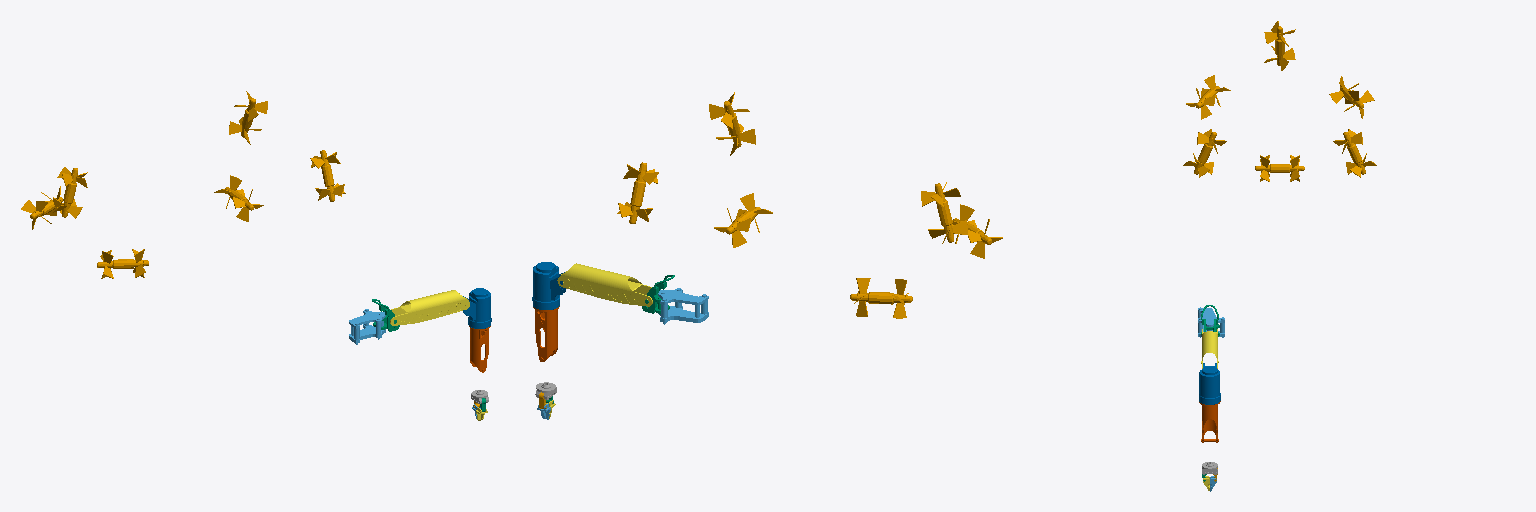
The robot description file, URDF, robot "rexrov2_oberon7":
<?xml version='1.0' encoding='utf-8'?>
<robot name="rexrov2_oberon7">
  <link name="base_link">
    <inertial>
      <mass value="1862.87" />
      <origin xyz="0 0 0" rpy="0 0 0" />
      <inertia ixx="525.39" ixy="1.44" ixz="33.41" iyy="794.20" iyz="2.6" izz="691.23" />
    </inertial>
    <collision>
      <origin xyz="0 0 -0.75" rpy="0 0 0" />
      <geometry>
        <box size="2.56 1.50 0.10" />
      </geometry>
    </collision>
    <collision>
      <origin xyz="0 0 0.60" rpy="0 0 0" />
      <geometry>
        <box size="2.56 1.50 0.40" />
      </geometry>
    </collision>
    <collision>
      <origin xyz="-0.20 0.70 -0.15" rpy="0 0 0" />
      <geometry>
        <box size="2.20 0.10 1.10" />
      </geometry>
    </collision>
    <collision>
      <origin xyz="-0.20 -0.70 -0.15" rpy="0 0 0" />
      <geometry>
        <box size="2.20 0.10 1.10" />
      </geometry>
    </collision>
    <visual name="RexROV2_no_props_00">
      <origin xyz="0 0 0" rpy="0 0 0" />
      <geometry>
        <mesh filename="meshes/rexrov2/RexROV2_no_props_00.obj" scale="1 1 1" />
      </geometry>
    </visual>
    <visual name="RexROV2_no_props_01">
      <origin xyz="0 0 0" rpy="0 0 0" />
      <geometry>
        <mesh filename="meshes/rexrov2/RexROV2_no_props_01.obj" scale="1 1 1" />
      </geometry>
    </visual>
    <visual name="RexROV2_no_props_02">
      <origin xyz="0 0 0" rpy="0 0 0" />
      <geometry>
        <mesh filename="meshes/rexrov2/RexROV2_no_props_02.obj" scale="1 1 1" />
      </geometry>
    </visual>
    <visual name="RexROV2_no_props_03">
      <origin xyz="0 0 0" rpy="0 0 0" />
      <geometry>
        <mesh filename="meshes/rexrov2/RexROV2_no_props_03.obj" scale="1 1 1" />
      </geometry>
    </visual>
    <visual name="RexROV2_no_props_04">
      <origin xyz="0 0 0" rpy="0 0 0" />
      <geometry>
        <mesh filename="meshes/rexrov2/RexROV2_no_props_04.obj" scale="1 1 1" />
      </geometry>
    </visual>
    <visual name="thruster_0">
      <geometry>
        <mesh filename="meshes/rexrov2/Propeller.obj" />
      </geometry>
      <origin xyz="0.4878 0 0.2373" rpy="0.0 0.0 1.5707963267948966" />
    </visual>
    <visual name="thruster_1">
      <geometry>
        <mesh filename="meshes/rexrov2/Propeller.obj" />
      </geometry>
      <origin xyz="-0.8217 0 0.589" rpy="0.0 -1.3089969389957472 0.0" />
    </visual>
    <visual name="thruster_2">
      <geometry>
        <mesh filename="meshes/rexrov2/Propeller.obj" />
      </geometry>
      <origin xyz="0.8654 -0.5322 0.5332" rpy="0.0 -1.1780972450961724 1.5707963267948966" />
    </visual>
    <visual name="thruster_3">
      <geometry>
        <mesh filename="meshes/rexrov2/Propeller.obj" />
      </geometry>
      <origin xyz="0.8654 0.5322 0.5332" rpy="0.0 1.1780972450961724 1.5707963267948966" />
    </visual>
    <visual name="thruster_4">
      <geometry>
        <mesh filename="meshes/rexrov2/Propeller.obj" />
      </geometry>
      <origin xyz="-0.7076 0.5129 0.2404" rpy="0.0 0.0 0.4363323129985824" />
    </visual>
    <visual name="thruster_5">
      <geometry>
        <mesh filename="meshes/rexrov2/Propeller.obj" />
      </geometry>
      <origin xyz="-0.7076 -0.5129 0.2404" rpy="0.0 0.0 -0.4363323129985824" />
    </visual>
  </link>
  <link name="oberon_base">
    <inertial>
      <origin rpy="0 0 0" xyz="-0.101581 -0.001371 -0.009781" />
      <mass value="9.674677170178402" />
      <inertia ixx="0.051173167814727395" ixy="0.0" ixz="0.0" iyy="0.083677172414382" iyz="0.0" izz="0.09580329781516367" />
    </inertial>
    <visual>
      <origin rpy="0 0 0" xyz="0 0 0" />
      <geometry>
        <mesh filename="meshes/oberon7/serial_arm/visual/Base.obj" />
      </geometry>
    </visual>
    <collision>
      <origin rpy="0 0 0" xyz="0 0 0" />
      <geometry>
        <mesh filename="meshes/oberon7/serial_arm/collision/Base.stl" />
      </geometry>
    </collision>
  </link>
  <link name="oberon_shoulder_link">
    <inertial>
      <origin rpy="0 0 0" xyz="0.039670 0.005441 0.017383" />
      <mass value="6.72225246900683" />
      <inertia ixx="0.04258397382943181" ixy="0.0" ixz="0.0" iyy="0.05132575485641739" iyz="0.0" izz="0.02957654137768093" />
    </inertial>
    <visual>
      <origin rpy="0 0 0" xyz="0 0 0" />
      <geometry>
        <mesh filename="meshes/oberon7/serial_arm/visual/ShoulderLink.obj" />
      </geometry>
    </visual>
    <collision>
      <origin rpy="0 0 0" xyz="0.039670 0.005441 0.017383" />
      <geometry>
        <cylinder length="0.239627" radius="0.068184" />
      </geometry>
    </collision>
  </link>
  <joint name="oberon_azimuth" type="revolute">
    <parent link="oberon_base" />
    <child link="oberon_shoulder_link" />
    <axis xyz="0 0 1" />
    <dynamics damping="100" friction="150" />
    <limit effort="200" lower="-1.0471975800000002" upper="1.0471975800000002" velocity="0.17" />
  </joint>
  <link name="oberon_upper_arm">
    <inertial>
      <origin rpy="0 0 0" xyz="0.312501 0.017478 -0.000002" />
      <mass value="12.444399907248723" />
      <inertia ixx="0.03782344832464449" ixy="0.0" ixz="0.0" iyy="0.41148818050402597" iyz="0.0" izz="0.41542085464478007" />
    </inertial>
    <visual>
      <origin rpy="0 0 0" xyz="0 0 0" />
      <geometry>
        <mesh filename="meshes/oberon7/serial_arm/visual/UpperArm.obj" />
      </geometry>
    </visual>
    <collision>
      <origin rpy="0 1.5707963267948966 0" xyz="0.312501 0.017478 -0.000002" />
      <geometry>
        <cylinder length="0.616809" radius="0.0709445" />
      </geometry>
    </collision>
  </link>
  <joint name="oberon_shoulder" type="revolute">
    <parent link="oberon_shoulder_link" />
    <child link="oberon_upper_arm" />
    <origin rpy="1.5707963267948966 0 0" xyz="0.06955 0.00015 0.01536" />
    <axis xyz="0 0 1" />
    <dynamics damping="50" friction="150" />
    <limit effort="5000" lower="-1.57079637" upper="1.57079637" velocity=".17" />
  </joint>
  <link name="oberon_elbow_link">
    <inertial>
      <origin rpy="0 0 0" xyz="0.125269 -0.074675 0.0" />
      <mass value="10.314508867497032" />
      <inertia ixx="0.0717197873733233" ixy="0.0" ixz="0.0" iyy="0.07240908344378823" iyz="0.0" izz="0.10276175033951813" />
    </inertial>
    <visual>
      <origin rpy="0 0 0" xyz="0 0 0" />
      <geometry>
        <mesh filename="meshes/oberon7/serial_arm/visual/ElbowLink.obj" />
      </geometry>
    </visual>
    <collision>
      <origin rpy="0 1.5707963267948966 1.5707963267948966" xyz="0.125269 -0.074675 0.0" />
      <geometry>
        <cylinder length="0.245312" radius="0.077562" />
      </geometry>
    </collision>
  </link>
  <joint name="oberon_elbow" type="revolute">
    <parent link="oberon_upper_arm" />
    <child link="oberon_elbow_link" />
    <origin rpy="0 0 0" xyz="0.55616 -0.01229 0" />
    <dynamics damping="50" friction="150" />
    <axis xyz="0 0 1" />
    <limit effort="300" lower="-1.57079637" upper="1.0471975800000002" velocity=".15" />
  </joint>
  <link name="oberon_forearm">
    <inertial>
      <origin rpy="0 0 0" xyz="0 0 0.15797880314911714" />
      <mass value="8.546261755853898" />
      <inertia ixx="0.09617944207733116" ixy="0.0" ixz="0.0" iyy="0.09619023030837781" iyz="0.0" izz="0.03268402566917647" />
    </inertial>
    <visual>
      <origin rpy="0 0 0" xyz="0 0 0" />
      <geometry>
        <mesh filename="meshes/oberon7/serial_arm/visual/Forearm.obj" />
      </geometry>
    </visual>
    <collision>
      <origin rpy="0 0 0" xyz="0 0 0.15797880314911714" />
      <geometry>
        <cylinder length="0.334827" radius="0.0757275" />
      </geometry>
    </collision>
  </link>
  <joint name="oberon_roll" type="revolute">
    <parent link="oberon_elbow_link" />
    <child link="oberon_forearm" />
    <origin rpy="1.5707963267948966 0 0" xyz="0.1349014 -0.1936267 0" />
    <axis xyz="0 0 1" />
    <dynamics damping="300" friction="1000" />
    <limit effort="1000" lower="-2.356194555" upper="2.356194555" velocity=".25" />
  </joint>
  <link name="oberon_wrist_link">
    <inertial>
      <origin rpy="0 0 0" xyz="0.104016 0.003308 -0.000027" />
      <mass value="3.9024235776962013" />
      <inertia ixx="0.010428220937889964" ixy="0.0" ixz="0.0" iyy="0.021153663661370576" iyz="0.0" izz="0.020526721978954304" />
    </inertial>
    <visual>
      <origin rpy="0 0 0" xyz="0 0 0" />
      <geometry>
        <mesh filename="meshes/oberon7/serial_arm/visual/Wrist.obj" />
      </geometry>
    </visual>
    <collision>
      <origin rpy="0 1.5707963267948966 0" xyz="0.104016 0.003308 -0.000027" />
      <geometry>
        <cylinder length="0.219204" radius="0.065187" />
      </geometry>
    </collision>
  </link>
  <joint name="oberon_pitch" type="revolute">
    <parent link="oberon_forearm" />
    <child link="oberon_wrist_link" />
    <origin rpy="-1.5707963267948966 -1.5707963267948966 0" xyz="0 0 0.31595760629823427" />
    <axis xyz="0 0 1" />
    <dynamics damping="10" friction="10" />
    <limit effort="50" lower="-1.57079637" upper="1.57079637" velocity=".3" />
  </joint>
  <link name="oberon_end_effector">
    <inertial>
      <origin rpy="0 0 0" xyz="0.024426 -0.000000 -0.000014" />
      <mass value="3.4611458108218063" />
      <inertia ixx="0.007745217406579397" ixy="0.0" ixz="0.0" iyy="0.005361426484543977" iyz="0.0" izz="0.005570556852600513" />
    </inertial>
    <visual>
      <origin rpy="0 0 0" xyz="0 0 0" />
      <geometry>
        <mesh filename="meshes/oberon7/parallel_gripper/visual/BaseGripper.obj" />
      </geometry>
    </visual>
    <collision>
      <origin rpy="0 0 0" xyz="0.024426 -0.000000 -0.000014" />
      <geometry>
        <box size="0.074326 0.117427 0.114298" />
      </geometry>
    </collision>
  </link>
  <joint name="oberon_wrist" type="revolute">
    <parent link="oberon_wrist_link" />
    <child link="oberon_end_effector" />
    <origin rpy="-1.5707963267948966 0 0" xyz="0.19304 0 0" />
    <axis xyz="1 0 0" />
    <dynamics damping="10" friction="5" />
    <limit effort="10" lower="-6.283185307179586" upper="6.283185307179586" velocity="0.15" />
  </joint>
  <link name="oberon_finger_left">
    <inertial>
      <origin rpy="0 0 0" xyz="0.025268 -0.001931 -0.000079" />
      <mass value="0.8797705118494835" />
      <inertia ixx="0.0003783306058490381" ixy="0.0" ixz="0.0" iyy="0.0008861483302166204" iyz="0.0" izz="0.0009192308042804266" />
    </inertial>
    <visual>
      <origin rpy="0 0 0" xyz="0 0 0" />
      <geometry>
        <mesh filename="meshes/oberon7/parallel_gripper/visual/Finger.obj" />
      </geometry>
    </visual>
    <collision>
      <origin rpy="0 0 0" xyz="0 0 0" />
      <geometry>
        <mesh filename="meshes/oberon7/parallel_gripper/visual/Finger.obj" />
      </geometry>
    </collision>
  </link>
  <joint name="oberon_finger_left_joint" type="revolute">
    <parent link="oberon_end_effector" />
    <child link="oberon_finger_left" />
    <origin rpy="0 0 0" xyz="0.0444267 0.0391376 0" />
    <axis xyz="0 0 1" />
    <dynamics damping="5" friction="10" />
    <limit effort="30" lower="0" upper="1.047092831441478" velocity="0.15" />
  </joint>
  <link name="oberon_finger_tip_left">
    <inertial>
      <origin rpy="0 0 0" xyz="0.027744 0.017278 0.0" />
      <mass value="1.1255052405358523" />
      <inertia ixx="0.0006110470018193867" ixy="0.0" ixz="0.0" iyy="0.0013490308103904078" iyz="0.0" izz="0.001215556098573415" />
    </inertial>
    <visual>
      <origin rpy="0 0 0" xyz="0 0 0" />
      <geometry>
        <mesh filename="meshes/oberon7/parallel_gripper/visual/FingerTip.obj" />
      </geometry>
    </visual>
    <collision>
      <origin rpy="0 0 0" xyz="0 0 0" />
      <geometry>
        <mesh filename="meshes/oberon7/parallel_gripper/visual/FingerTip.obj" />
      </geometry>
    </collision>
  </link>
  <joint name="oberon_finger_tip_left_joint" type="fixed">
    <parent link="oberon_finger_left" />
    <child link="oberon_finger_tip_left" />
    <origin rpy="3.141592653589793 0 0" xyz="0.06431 0 0" />
  </joint>
  <link name="oberon_finger_right">
    <inertial>
      <origin rpy="0 0 0" xyz="0.025268 -0.001931 -0.000079" />
      <mass value="0.8797705118494835" />
      <inertia ixx="0.0003783306058490381" ixy="0.0" ixz="0.0" iyy="0.0008861483302166204" iyz="0.0" izz="0.0009192308042804266" />
    </inertial>
    <visual>
      <origin rpy="3.141592653589793 0 0" xyz="0 0 0" />
      <geometry>
        <mesh filename="meshes/oberon7/parallel_gripper/visual/Finger.obj" />
      </geometry>
    </visual>
    <collision>
      <origin rpy="3.141592653589793 0 0" xyz="0 0 0" />
      <geometry>
        <mesh filename="meshes/oberon7/parallel_gripper/visual/Finger.obj" />
      </geometry>
    </collision>
  </link>
  <joint name="oberon_finger_right_joint" type="revolute">
    <parent link="oberon_end_effector" />
    <child link="oberon_finger_right" />
    <origin rpy="3.141592653589793 3.141592653589793 3.141592653589793" xyz="0.0444267 -0.0391376 0" />
    <axis xyz="0 0 -1" />
    <dynamics damping="5" friction="10" />
    <limit effort="30" lower="0" upper="1.047092831441478" velocity="0.15" />
  </joint>
  <link name="oberon_finger_tip_right">
    <inertial>
      <origin rpy="0 0 0" xyz="0.027744 0.017278 0.0" />
      <mass value="1.1255052405358523" />
      <inertia ixx="0.0006110470018193867" ixy="0.0" ixz="0.0" iyy="0.0013490308103904078" iyz="0.0" izz="0.001215556098573415" />
    </inertial>
    <visual>
      <origin rpy="0 0 0" xyz="0 0 0" />
      <geometry>
        <mesh filename="meshes/oberon7/parallel_gripper/visual/FingerTip.obj" />
      </geometry>
    </visual>
    <collision>
      <origin rpy="0 0 0" xyz="0 0 0" />
      <geometry>
        <mesh filename="meshes/oberon7/parallel_gripper/visual/FingerTip.obj" />
      </geometry>
    </collision>
  </link>
  <joint name="oberon_finger_tip_right_joint" type="fixed">
    <parent link="oberon_finger_right" />
    <child link="oberon_finger_tip_right" />
    <origin rpy="0 0 0" xyz="0.06431 0 0" />
  </joint>
  <joint name="oberon_mount" type="fixed">
    <parent link="base_link" />
    <child link="oberon_base" />
    <origin xyz="1.3 -0.5 -0.665" rpy="0 0 0" />
  </joint>
</robot>

--- Render facts (derived) ---
The picture shows the robot from 3 angles, left to right: view 1: azimuth 30°, elevation 25°; view 2: azimuth 150°, elevation 25°; view 3: azimuth 270°, elevation 25°; orthographic projection.
Robot: rexrov2_oberon7 — 12 links, 11 joints (8 revolute, 3 fixed); root link base_link; default pose: all joints at 0.
Links seen in each view (by area): view 1: base_link, oberon_upper_arm, oberon_elbow_link, oberon_base, oberon_forearm; view 2: base_link, oberon_upper_arm, oberon_base, oberon_elbow_link, oberon_forearm; view 3: base_link, oberon_elbow_link, oberon_forearm.
Link boxes in pixels (bbox=[...]): base_link: bbox=[21, 91, 345, 278]; oberon_upper_arm: bbox=[390, 290, 469, 325]; oberon_elbow_link: bbox=[463, 288, 491, 328]; oberon_base: bbox=[349, 309, 385, 344]; oberon_forearm: bbox=[469, 326, 490, 372]; base_link: bbox=[617, 92, 1002, 318]; oberon_upper_arm: bbox=[557, 263, 652, 306]; oberon_base: bbox=[658, 288, 708, 324]; oberon_elbow_link: bbox=[532, 262, 565, 309]; oberon_forearm: bbox=[533, 306, 559, 361]; base_link: bbox=[1183, 21, 1376, 181]; oberon_elbow_link: bbox=[1199, 363, 1220, 404]; oberon_forearm: bbox=[1199, 401, 1220, 442].
Size in the robot's own frame: 3.11 by 1.38 by 2.32 metres.
Meshes: 15 distinct files referenced, 16 mesh visuals loaded (9 OBJ); not drawn: 6 (reference not matched to a file when rendering).
